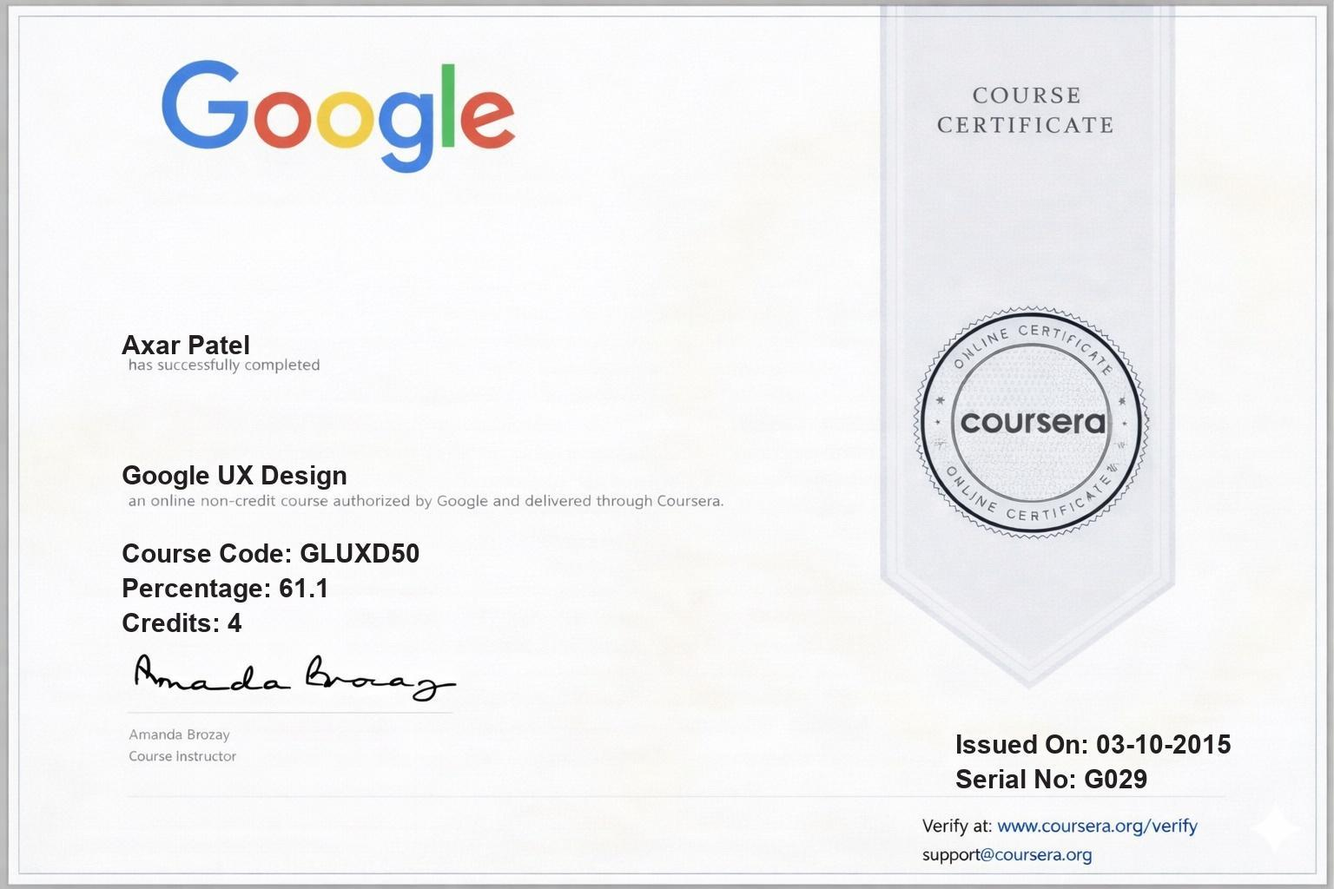Course Code: (295, 534, 428, 575)
Course Name: (113, 458, 354, 495)
Credits: (224, 605, 256, 643)
Issued On: (1091, 718, 1244, 765)
Percentage: (272, 571, 345, 608)
Serial No: (1083, 762, 1154, 800)
Student Name: (116, 322, 258, 362)
